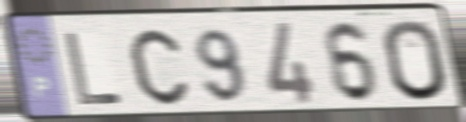4: (264, 18, 318, 109)
6: (320, 18, 382, 106)
9: (192, 26, 248, 105)
C: (126, 26, 192, 108)
L: (62, 29, 126, 108)
O: (379, 17, 451, 103)
